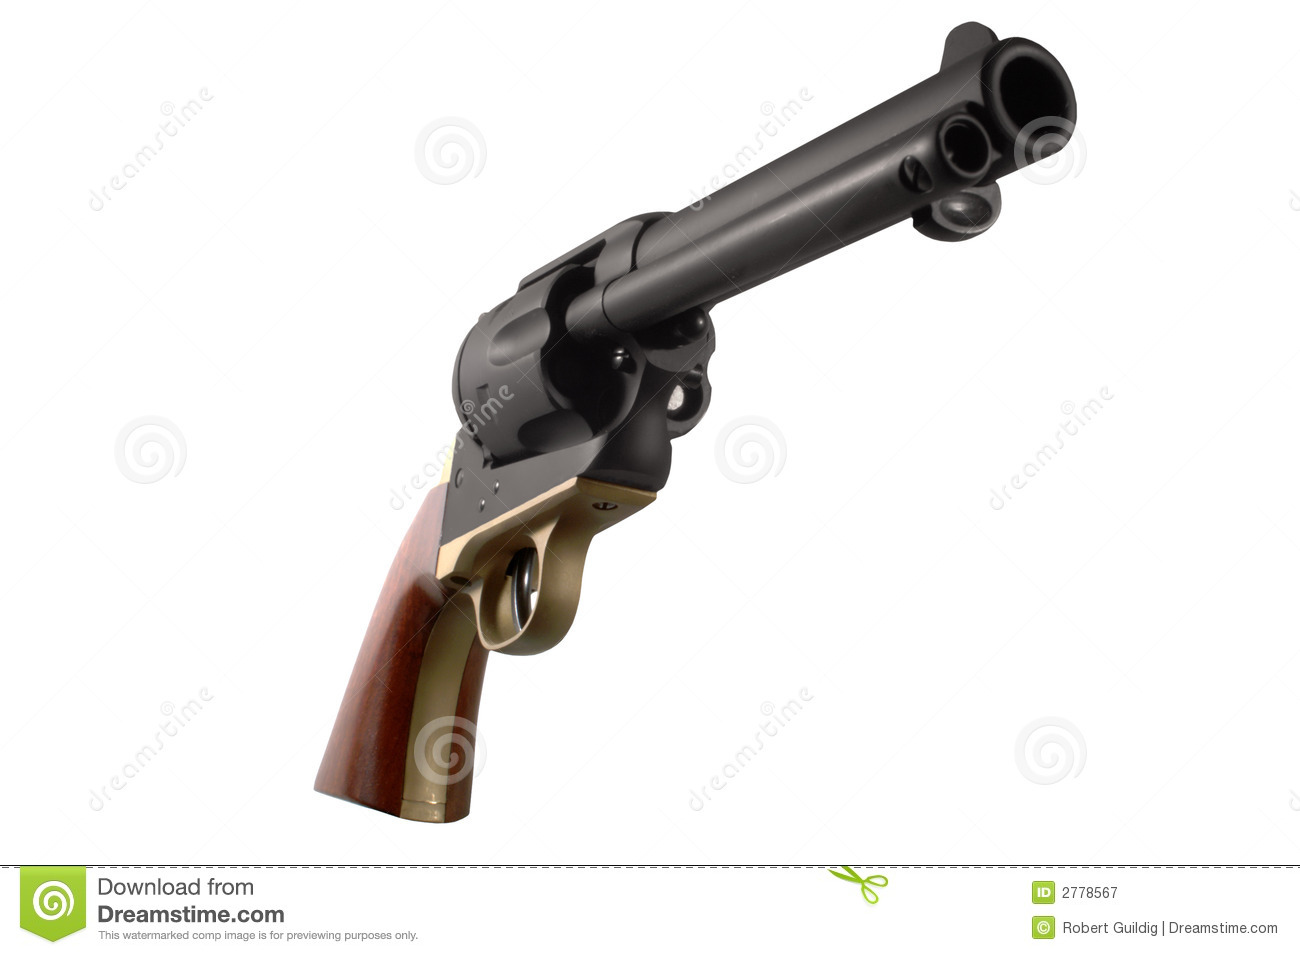weapon: (300, 21, 1082, 822)
